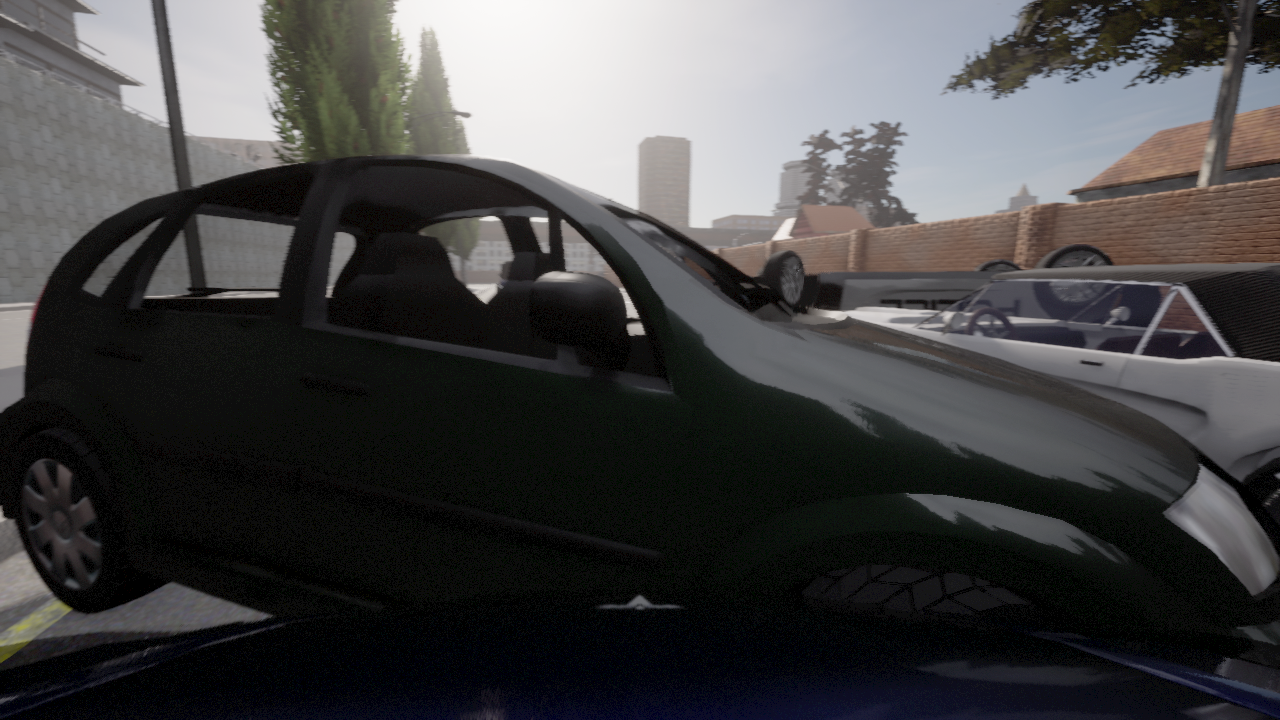cyclist: (0, 155, 1279, 644), (0, 588, 1279, 719), (834, 263, 1279, 525), (751, 244, 1113, 310), (805, 272, 819, 273)
